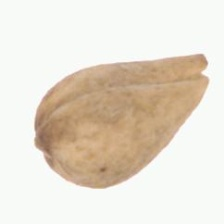L1: (33, 119, 56, 168), (189, 52, 210, 94)
L2: (33, 54, 210, 188)
